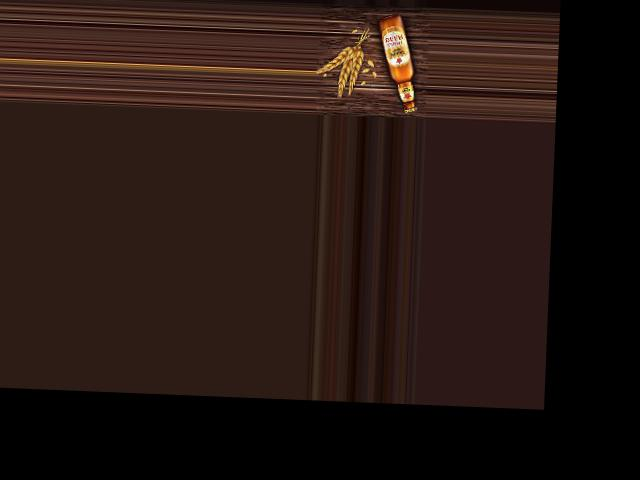beer: (375, 13, 421, 113)
